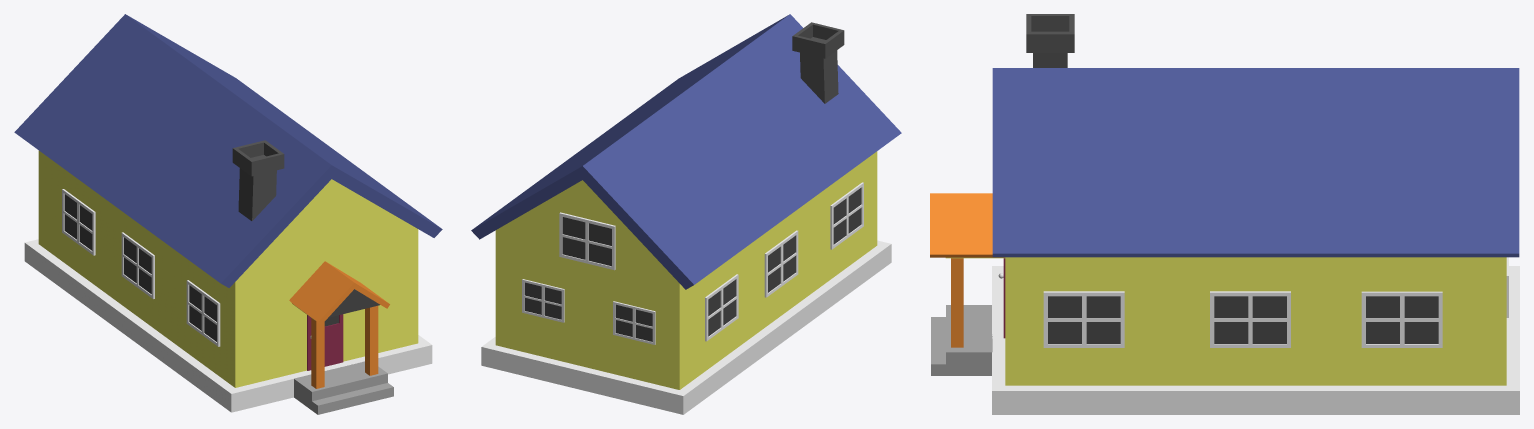
File: House_4.fbx
3 views of the same model, side by side, from view 1: azimuth 30°, elevation 25°; view 2: azimuth 150°, elevation 25°; view 3: azimuth 270°, elevation 25° (orthographic). The views are drawn at different scales.
Visible parts, largest first — view 1: House_4; view 2: House_4; view 3: House_4.
Part boxes in pixels (x1,y1,x2,y2): House_4: (14,14,442,414); House_4: (471,14,901,414); House_4: (930,14,1519,414).
Bounding box in the file's own units: 3.93 × 7.08 × 3.93.
